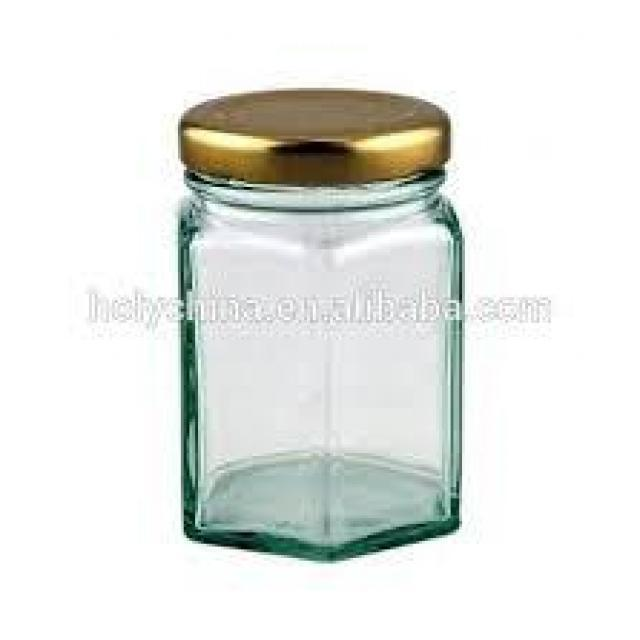glass: (160, 83, 480, 568)
